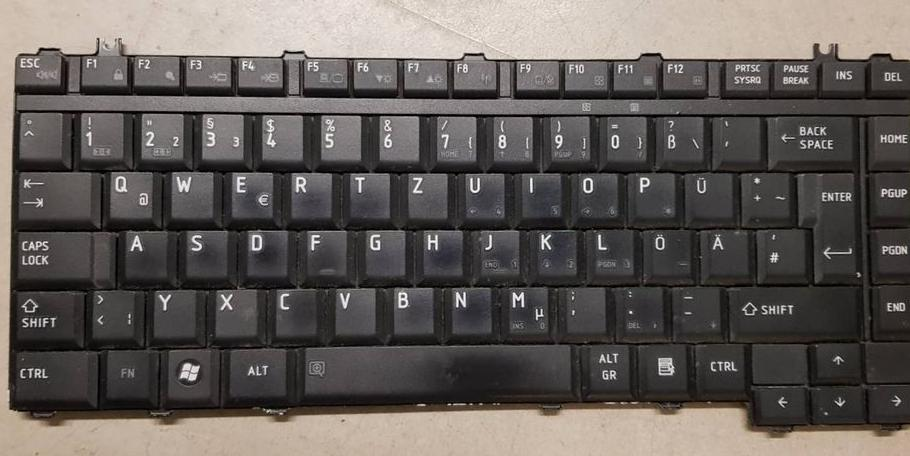0: (600, 112, 647, 165)
1: (74, 108, 123, 162)
2: (134, 108, 184, 162)
3: (194, 109, 244, 161)
4: (256, 111, 302, 162)
5: (314, 111, 360, 161)
6: (372, 111, 419, 161)
7: (430, 111, 476, 162)
8: (485, 112, 533, 165)
9: (543, 111, 590, 165)
a: (119, 226, 166, 279)
accent: (710, 112, 759, 164)
ae: (697, 225, 747, 278)
alt-left: (224, 342, 287, 398)
altgr-right: (582, 339, 631, 392)
b: (385, 282, 433, 334)
c: (272, 286, 319, 339)
caret: (14, 108, 61, 160)
comma: (558, 283, 604, 334)
d: (238, 225, 288, 278)
del: (762, 111, 853, 163)
e: (225, 168, 274, 219)
enter: (795, 167, 856, 276)
f: (299, 226, 345, 278)
g: (357, 226, 403, 277)
h: (415, 226, 462, 277)
hash: (753, 224, 804, 279)
i: (514, 169, 561, 218)
j: (470, 226, 519, 279)
k: (529, 226, 577, 277)
keyboard: (1, 43, 910, 430)
l: (583, 224, 634, 280)
less: (86, 285, 136, 341)
m: (499, 282, 548, 336)
minus: (668, 282, 719, 336)
n: (444, 283, 491, 334)
o: (568, 169, 618, 220)
oe: (640, 225, 691, 278)
p: (623, 167, 675, 219)
plus: (737, 167, 789, 222)
point: (612, 281, 663, 339)
q: (103, 167, 154, 221)
r: (284, 168, 332, 219)
s: (178, 226, 227, 279)
shift-left: (8, 287, 78, 344)
shift-lock: (11, 227, 98, 281)
shift-right: (724, 280, 857, 336)
space: (297, 339, 569, 399)
ss: (652, 112, 703, 164)
strg-left: (6, 346, 92, 406)
strg-right: (692, 338, 744, 393)
t: (343, 169, 389, 218)
tab: (12, 167, 90, 222)
u: (456, 169, 504, 220)
ue: (680, 167, 732, 220)
v: (329, 284, 374, 335)
w: (164, 166, 213, 219)
x: (210, 284, 257, 337)
y: (147, 284, 196, 340)
z: (402, 169, 446, 219)
